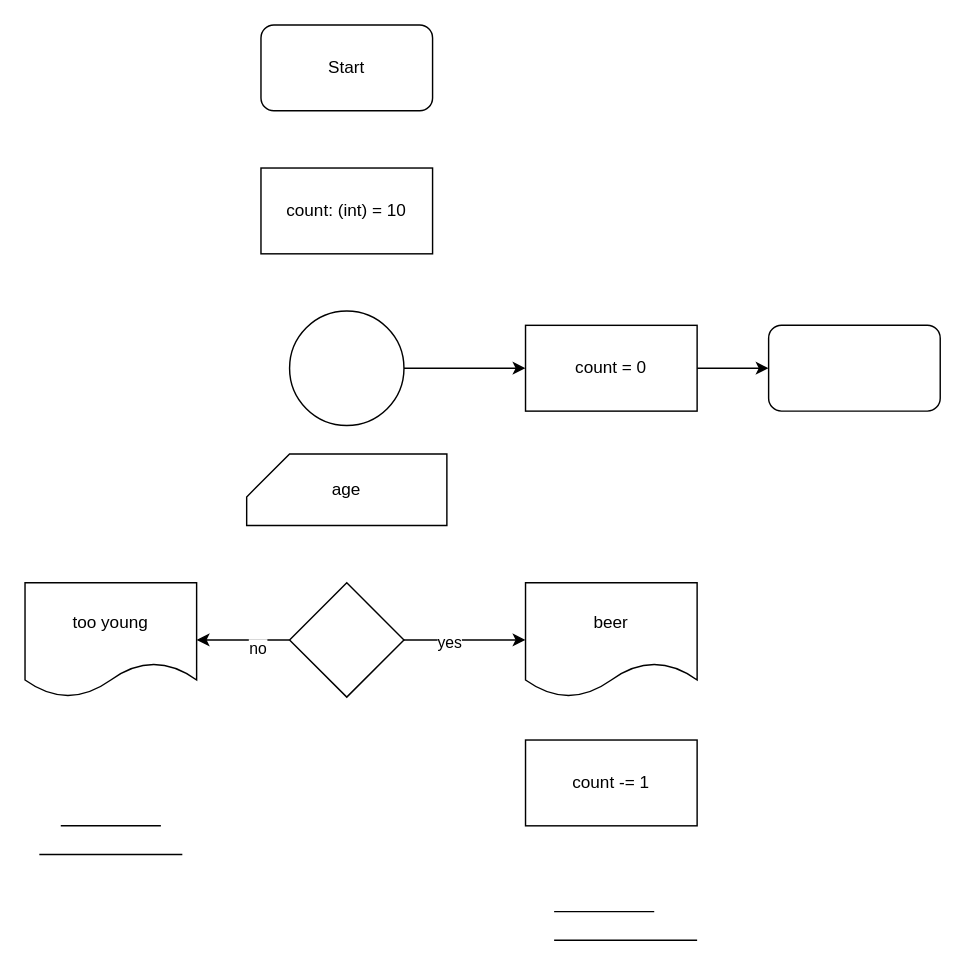
The diagram is 965 pixels wide and 967 high, and some of its shapes have lost their labels. Here are the shapes that lost their labels. From the top down, the box of each, then its label:
(288, 310, 404, 425): count != 0
(767, 324, 940, 411): end
(288, 581, 404, 697): age >= 18
